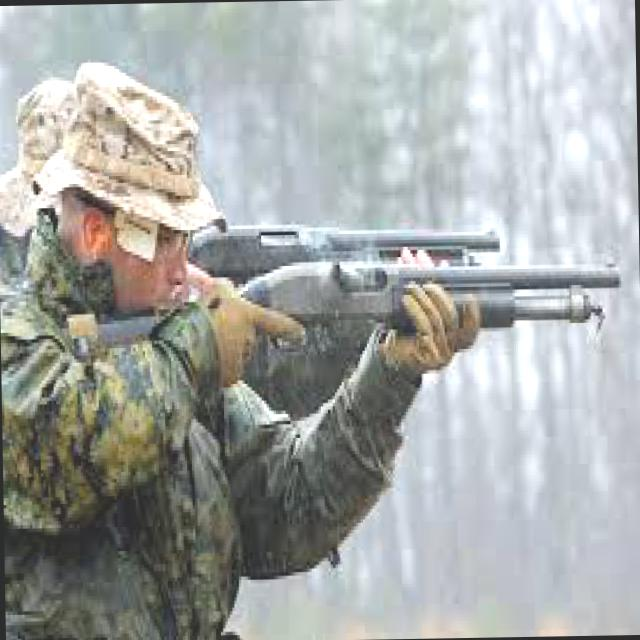long weapon: (69, 248, 626, 403), (188, 213, 509, 279)
